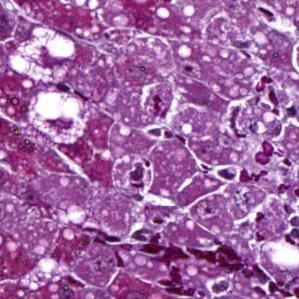ballooning: (7, 22, 79, 88), (24, 87, 92, 146)
